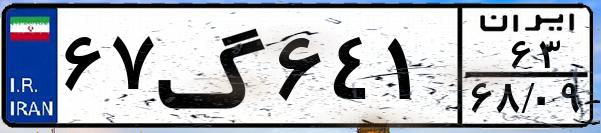0: (535, 70, 560, 125)
1: (385, 28, 445, 110)
3: (537, 27, 568, 80)
4: (330, 28, 385, 110)
6: (270, 28, 330, 110), (57, 26, 110, 100), (508, 27, 537, 80), (470, 70, 495, 125)
7: (110, 28, 156, 98)
8: (495, 70, 520, 125)
9: (560, 70, 590, 125)
گ: (156, 12, 270, 120)
